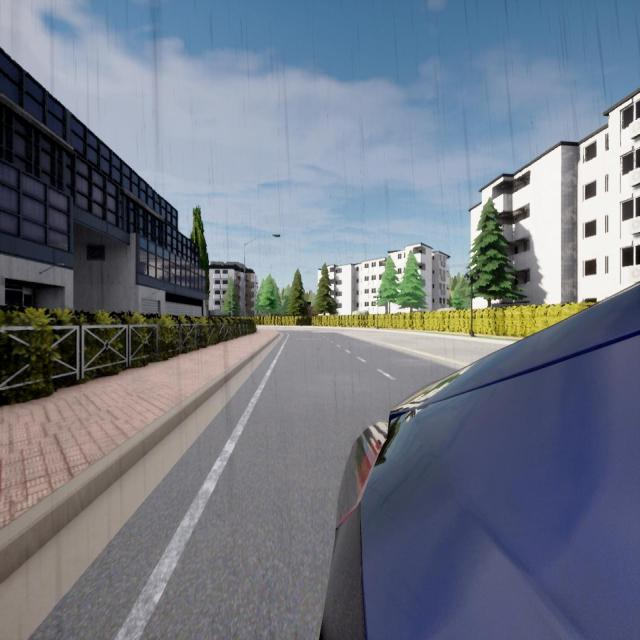Vehicle: (320, 286, 640, 639)
